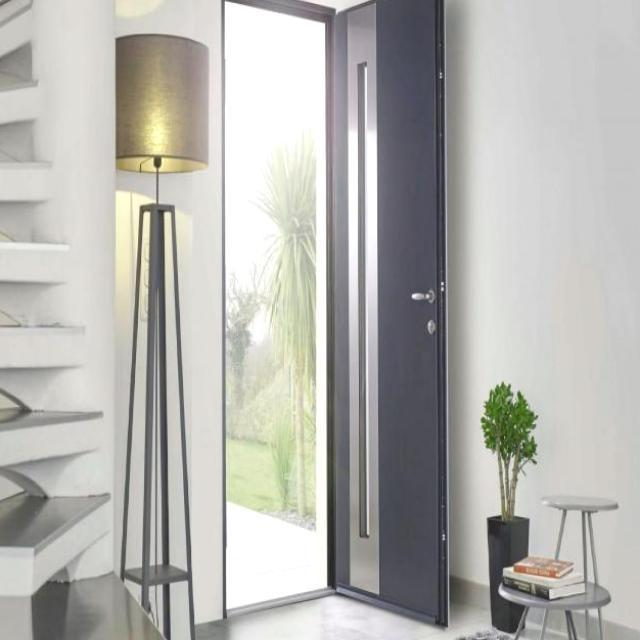door: (332, 0, 448, 627)
